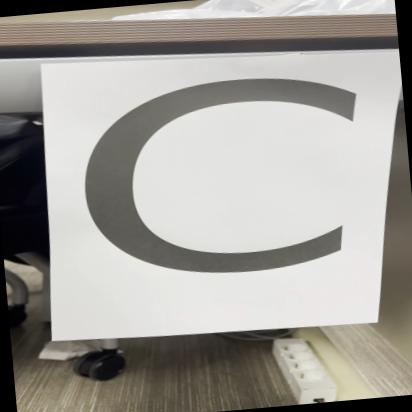seat: (70, 40, 406, 368)
